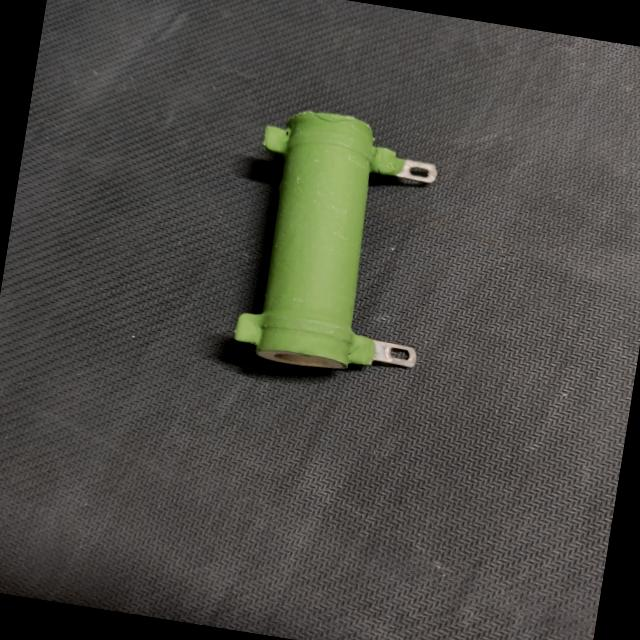resistor: (194, 82, 467, 402)
